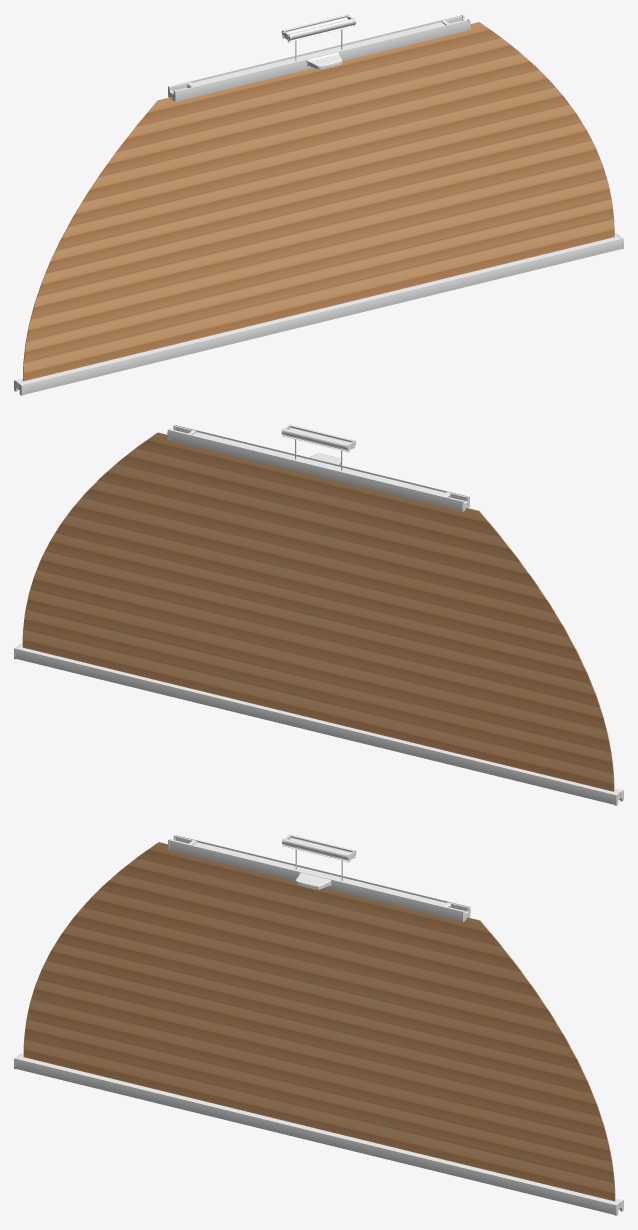
3 renders of one model, top to bottom at view 1: azimuth 30°, elevation 25°; view 2: azimuth 150°, elevation 25°; view 3: azimuth 330°, elevation 25°, orthographic.
Visible parts, largest first — view 1: Plane, Cube.012, Cube.003, Cube.005; view 2: Plane, Cube.012, Cube.003, Cube.005; view 3: Plane, Cube.012, Cube.003, Cube.005.
Part boxes in pixels (x1,y1,x2,y2): Plane: (22,22,614,381); Cube.012: (17,234,621,394); Cube.003: (170,15,468,101); Cube.005: (285,15,353,41); Plane: (22,432,614,791); Cube.012: (16,644,621,804); Cube.003: (169,425,467,511); Cube.005: (284,425,352,451); Plane: (23,842,615,1201); Cube.012: (16,1054,621,1214); Cube.003: (170,835,467,921); Cube.005: (284,835,352,861).
Bounding box in the file's own units: 0.9995 × 0.4675 × 0.0476.
Materials: 5 (1 with a texture image).
